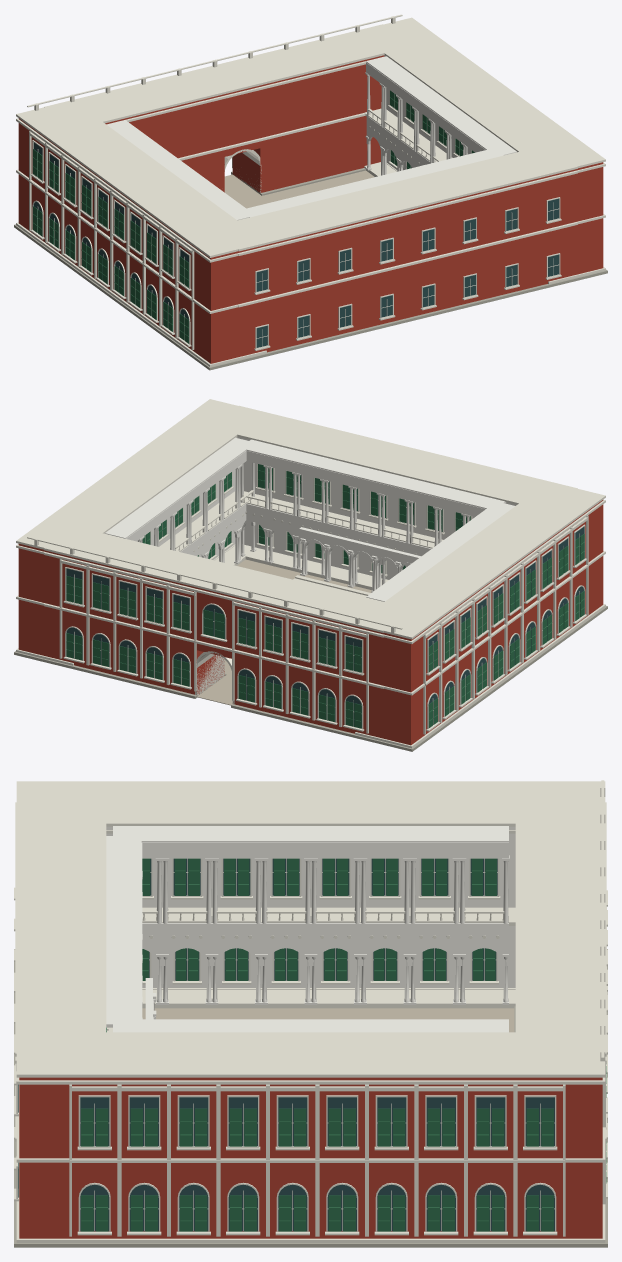
Rendered from JTB_jorasanko_thakur_bari_Roblox.fbx.
3 renders of one model, top to bottom at view 1: azimuth 30°, elevation 25°; view 2: azimuth 150°, elevation 25°; view 3: azimuth 270°, elevation 25°, orthographic. The views are drawn at different scales.
Parts seen in each view (by area): view 1: JTB_RearWing__Red_RBX, JTB_SideWing_-1__Red_RBX, JTB_SideCornice_-1__Ivory_RBX, JTB_EntranceWing_1__Red_RBX, JTB_CrossCornice_-48__Ivory_RBX, JTB_CrossCornice_48__Ivory_RBX, JTB_SideCornice_1__Ivory_RBX, JTB_SideWing_1__Red_RBX, JTB_EntranceWing_-1__Red_RBX, JTB_OpenEntrancePassage__Red_RBX, JTB_CourtSide_1_0__White_RBX, JTB_RearFoundation__Stone_RBX (+38 smaller); view 2: JTB_SideCornice_-1__Ivory_RBX, JTB_SideWing_-1__Red_RBX, JTB_CrossCornice_-48__Ivory_RBX, JTB_SideCornice_1__Ivory_RBX, JTB_CrossCornice_48__Ivory_RBX, JTB_EntranceWing_1__Red_RBX, JTB_EntranceWing_-1__Red_RBX, JTB_WhiteRearLining__White_RBX, JTB_SideWing_1__Red_RBX, JTB_ThakurDalanArcade__White_RBX, JTB_RearCourt_7__White_RBX, JTB_RearCourt_6__White_RBX (+68 smaller); view 3: JTB_SideWing_1__Red_RBX, JTB_SideCornice_1__Ivory_RBX, JTB_SideCornice_-1__Ivory_RBX, JTB_CrossCornice_-48__Ivory_RBX, JTB_CrossCornice_48__Ivory_RBX, JTB_WhiteCourtLining_-1__White_RBX, JTB_GalleryFloor_-1__Ivory_RBX, JTB_CourtyardPaving__Court_RBX, JTB_CourtSide_-1_0__White_RBX, JTB_CourtSide_-1_1__White_RBX, JTB_CourtSide_-1_3__White_RBX, JTB_CourtSide_-1_6__White_RBX (+68 smaller).
Boxes of the visible parts, left/top/right/bottom form: JTB_RearWing__Red_RBX: left=264, top=175, right=549, bottom=352; JTB_SideWing_-1__Red_RBX: left=18, top=118, right=264, bottom=363; JTB_SideCornice_-1__Ivory_RBX: left=16, top=107, right=266, bottom=366; JTB_EntranceWing_1__Red_RBX: left=232, top=55, right=384, bottom=192; JTB_CrossCornice_-48__Ivory_RBX: left=44, top=24, right=412, bottom=160; JTB_CrossCornice_48__Ivory_RBX: left=238, top=152, right=577, bottom=307; JTB_SideCornice_1__Ivory_RBX: left=384, top=17, right=605, bottom=284; JTB_SideWing_1__Red_RBX: left=549, top=162, right=603, bottom=280; JTB_EntranceWing_-1__Red_RBX: left=105, top=94, right=224, bottom=192; JTB_OpenEntrancePassage__Red_RBX: left=224, top=85, right=260, bottom=156; JTB_CourtSide_1_0__White_RBX: left=365, top=56, right=402, bottom=175; JTB_RearFoundation__Stone_RBX: left=263, top=284, right=548, bottom=357; JTB_SideCornice_-1__Ivory_RBX: left=355, top=482, right=605, bottom=748; JTB_SideWing_-1__Red_RBX: left=357, top=500, right=603, bottom=745; JTB_CrossCornice_-48__Ivory_RBX: left=44, top=526, right=412, bottom=688; JTB_SideCornice_1__Ivory_RBX: left=16, top=399, right=266, bottom=665; JTB_CrossCornice_48__Ivory_RBX: left=237, top=405, right=577, bottom=504; JTB_EntranceWing_1__Red_RBX: left=54, top=553, right=224, bottom=694; JTB_EntranceWing_-1__Red_RBX: left=232, top=596, right=375, bottom=735; JTB_WhiteRearLining__White_RBX: left=237, top=436, right=516, bottom=579; JTB_SideWing_1__Red_RBX: left=18, top=544, right=71, bottom=657; JTB_ThakurDalanArcade__White_RBX: left=299, top=527, right=420, bottom=592; JTB_RearCourt_7__White_RBX: left=267, top=446, right=307, bottom=569; JTB_RearCourt_6__White_RBX: left=296, top=453, right=335, bottom=576; JTB_SideWing_1__Red_RBX: left=19, top=1077, right=602, bottom=1238; JTB_SideCornice_1__Ivory_RBX: left=16, top=1032, right=605, bottom=1242; JTB_SideCornice_-1__Ivory_RBX: left=16, top=781, right=605, bottom=989; JTB_CrossCornice_-48__Ivory_RBX: left=515, top=802, right=606, bottom=1141; JTB_CrossCornice_48__Ivory_RBX: left=15, top=802, right=106, bottom=1141; JTB_WhiteCourtLining_-1__White_RBX: left=106, top=826, right=515, bottom=987; JTB_GalleryFloor_-1__Ivory_RBX: left=142, top=989, right=515, bottom=1008; JTB_CourtyardPaving__Court_RBX: left=142, top=1008, right=514, bottom=1032; JTB_CourtSide_-1_0__White_RBX: left=459, top=826, right=509, bottom=1004; JTB_CourtSide_-1_1__White_RBX: left=409, top=826, right=459, bottom=1004; JTB_CourtSide_-1_3__White_RBX: left=310, top=826, right=360, bottom=1004; JTB_CourtSide_-1_6__White_RBX: left=162, top=826, right=212, bottom=1004.
Size of the model in its own units: 134 by 38.4 by 114.
